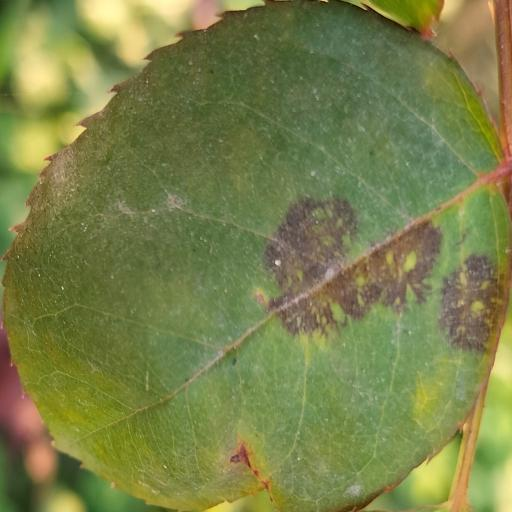black_spot: (4, 0, 512, 512)
